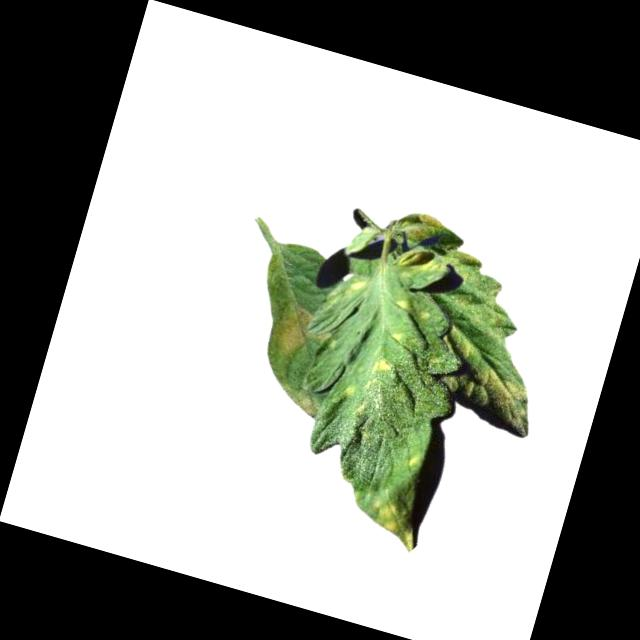Leaf_Mold: (455, 363, 542, 437), (266, 300, 321, 359), (365, 494, 404, 538), (393, 242, 439, 279), (405, 210, 448, 248), (367, 353, 395, 379), (392, 298, 406, 314)
